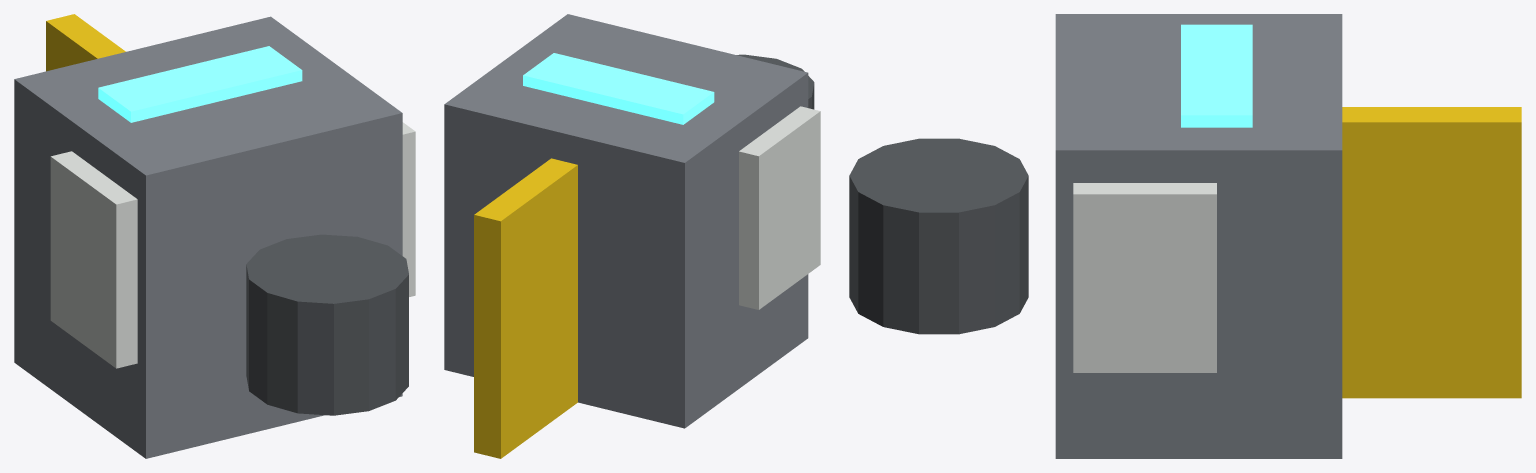
Rendered from head-warden.glb.
The picture shows the model from 3 angles, left to right: view 1: azimuth 30°, elevation 25°; view 2: azimuth 150°, elevation 25°; view 3: azimuth 270°, elevation 25°; orthographic projection. The views are drawn at different scales.
Parts seen in each view (by area): view 1: cranium, neck, cheek_L, visor, crest, cheek_R; view 2: cranium, crest, cheek_L, visor, neck; view 3: cranium, crest, neck, cheek_R, visor.
Boxes of the visible parts, x1,y1,x2,y2 form: cranium: (14,16,402,458); neck: (246,234,408,415); cheek_L: (50,151,137,368); visor: (98,46,302,122); crest: (46,14,125,71); cheek_R: (402,122,415,296); cranium: (444,14,808,428); crest: (474,158,577,458); cheek_L: (739,106,820,309); visor: (523,53,714,124); neck: (737,54,814,109); cranium: (1055,14,1342,458); crest: (1342,107,1521,398); neck: (849,138,1028,334); cheek_R: (1073,183,1216,372); visor: (1181,24,1252,127).
Size of the model in its own units: 0.42 by 0.395 by 0.75.
